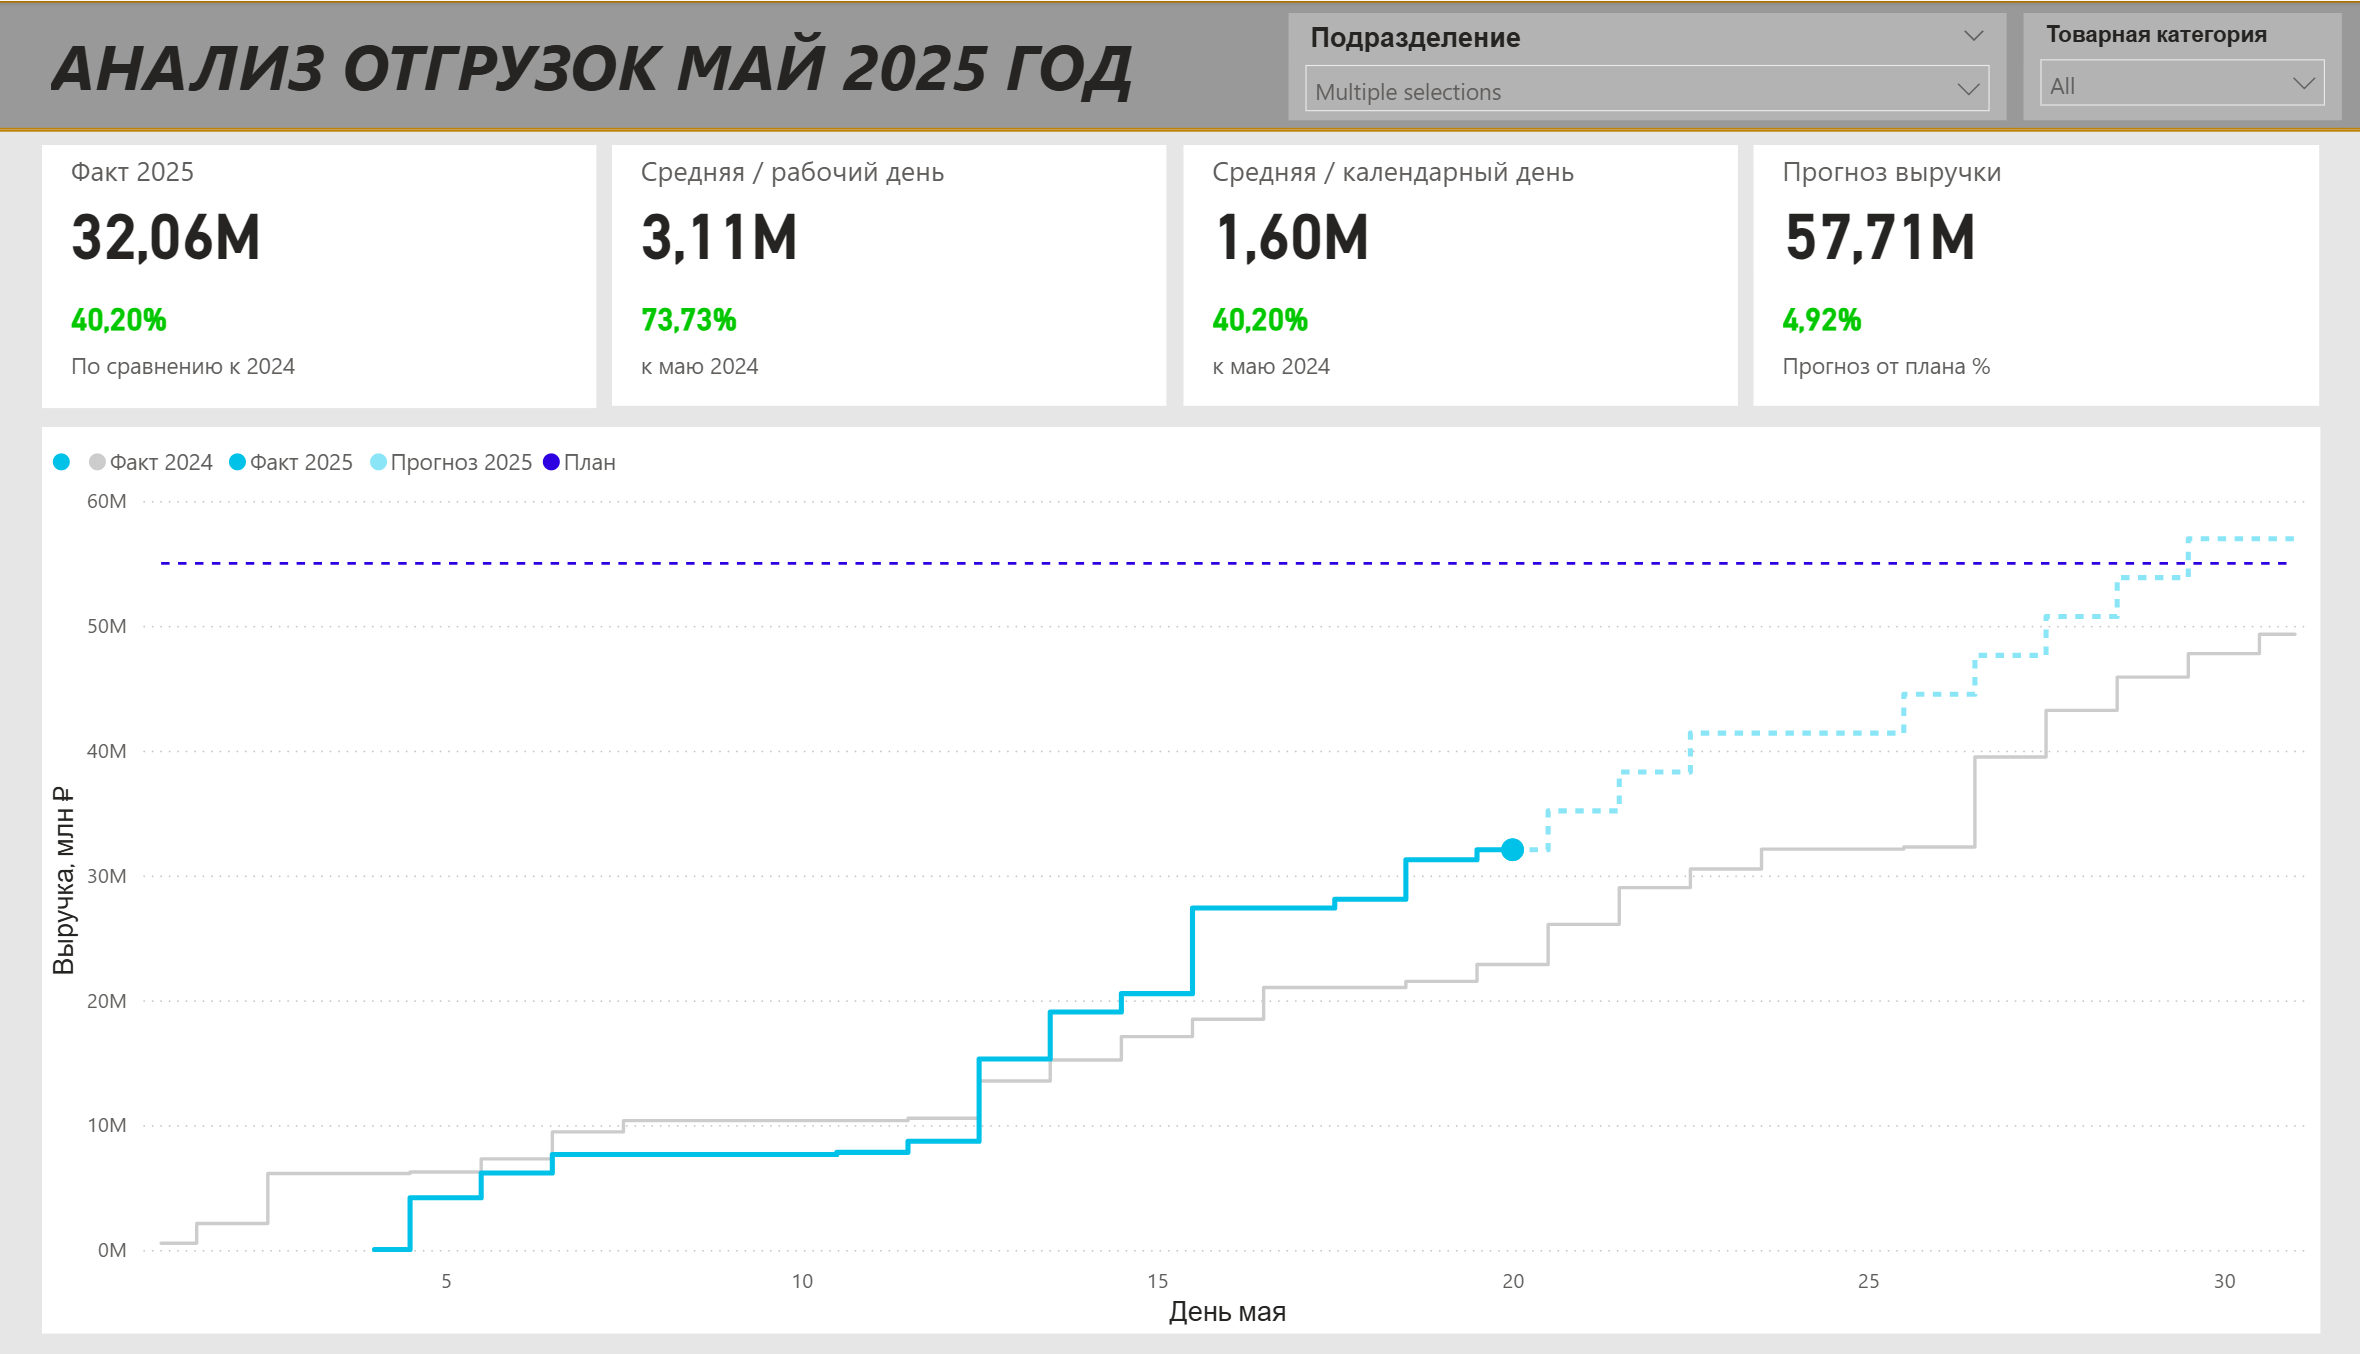

This screenshot's page, from the dashboard's own definition file:
{"tool":"powerbi","page":{"name":"Sales YTD","canvas":[1400,800],"ordinal":0},"visuals":[{"type":"shape","box":[0,75.9,1400,723.9],"z":0},{"type":"shape","box":[0,0,1400,75.9],"z":1000},{"type":"cardVisual","fields":{"Data":["Measures (2).Факт_2025_YTD","Measures (2).Отклонение_Факт_К_Прошлом_Году_%"]},"box":[26.9,85.2,327,155.3],"z":2000},{"type":"lineChart","fields":{"Y":["_Measures.Точка_Факта_2025","_Measures.Накопительная_Выручка_2024","_Measures.Накопительная_Выручка_2025_t","_Measures.Накопительный_Прогноз","_Measures.План_Май"],"Category":["Calendar_May.Day_Of_Month"]},"box":[26.7,251.7,1345,535],"z":3000},{"type":"slicer","fields":{"Values":["Dim_Subdivisions.Подразделение"]},"box":[762.5,7,423.9,63.1],"z":4000},{"type":"slicer","fields":{"Values":["Dim_Categories.Номенклатура.Товарная категория"]},"box":[1196.8,7,188,63.1],"z":5000},{"type":"cardVisual","fields":{"Data":["Measures (2).Средняя_Выручка_Календарный_День_2025","Measures (2).Сравнение_По_Среднему_Календарному_Дню_%"]},"box":[700.2,85.2,327,154.1],"z":6000},{"type":"cardVisual","fields":{"Data":["Measures (2).Прогноз_Выручки","Measures (2).Отклонение_Прогноза_От_Плана_%"]},"box":[1036.9,85.2,333.9,154.1],"z":7000},{"type":"textbox","box":[26.9,7,822,68.9],"z":8000},{"type":"cardVisual","fields":{"Data":["Measures (2).Средняя_Выручка_День_2025","Measures (2).Сравнение_По_Средним_%"]},"box":[363.5,85.2,327,154.1],"z":9000}]}

Visuals, with their boxes in screenshot pixels (x1, y1, x2, y2), scaled from the page's 1400x800 canvas onto the 2360x1354 screenshot:
shape: <box>0,128,2359,1353</box>
shape: <box>0,0,2359,128</box>
cardVisual - Measures (2).Факт_2025_YTD x Measures (2).Отклонение_Факт_К_Прошлом_Году_%: <box>45,144,597,407</box>
lineChart - _Measures.Точка_Факта_2025 x _Measures.Накопительная_Выручка_2024: <box>45,426,2312,1331</box>
slicer - Dim_Subdivisions.Подразделение: <box>1285,12,2000,119</box>
slicer - Dim_Categories.Номенклатура.Товарная категория: <box>2017,12,2334,119</box>
cardVisual - Measures (2).Средняя_Выручка_Календарный_День_2025 x Measures (2).Сравнение_По_Среднему_Календарному_Дню_%: <box>1180,144,1732,405</box>
cardVisual - Measures (2).Прогноз_Выручки x Measures (2).Отклонение_Прогноза_От_Плана_%: <box>1748,144,2311,405</box>
textbox: <box>45,12,1431,128</box>
cardVisual - Measures (2).Средняя_Выручка_День_2025 x Measures (2).Сравнение_По_Средним_%: <box>613,144,1164,405</box>
